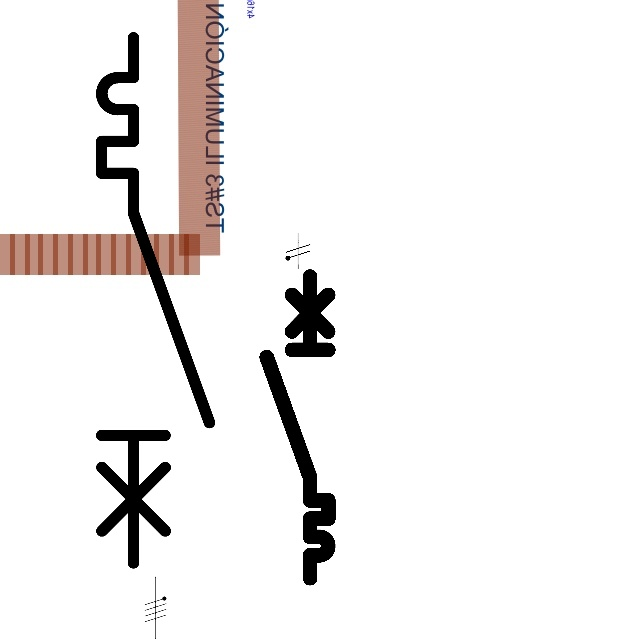interruptor_termomagnetico: (88, 24, 223, 576), (259, 268, 336, 585)
